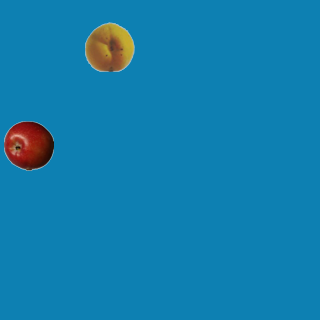Apple Braeburn: (3, 120, 53, 170)
Peach 2: (84, 21, 134, 71)
